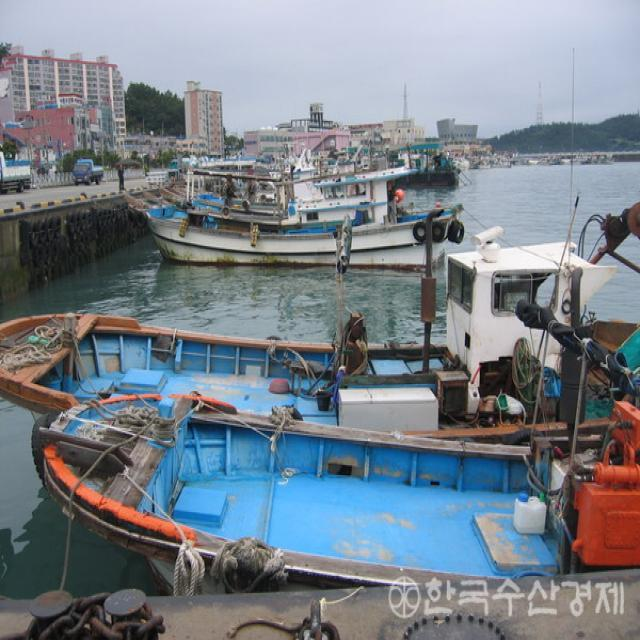Ship: (2, 227, 640, 449), (27, 387, 640, 592), (131, 169, 474, 275)
